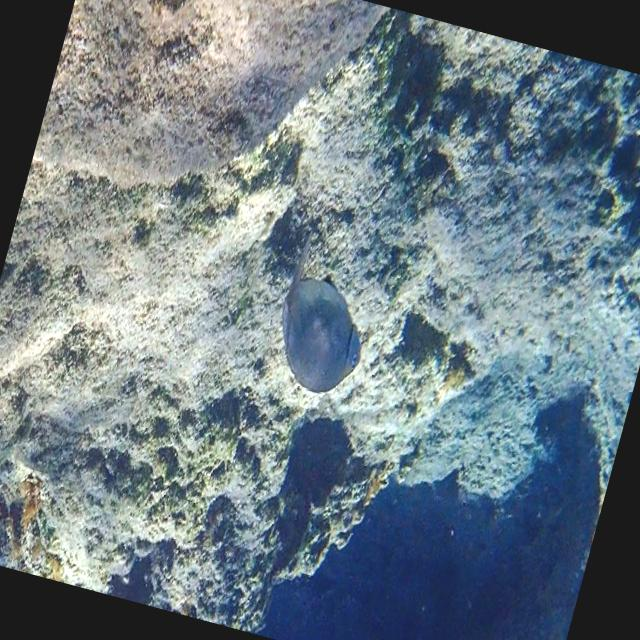Sokar Baligi: (251, 212, 398, 415)
